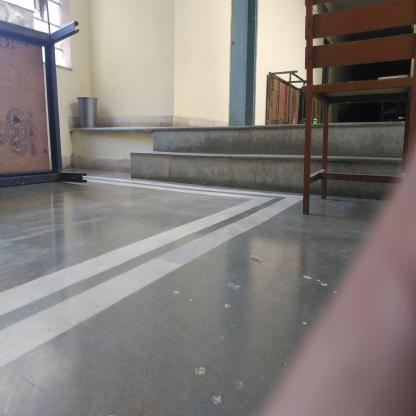stairs: (154, 120, 304, 194)
